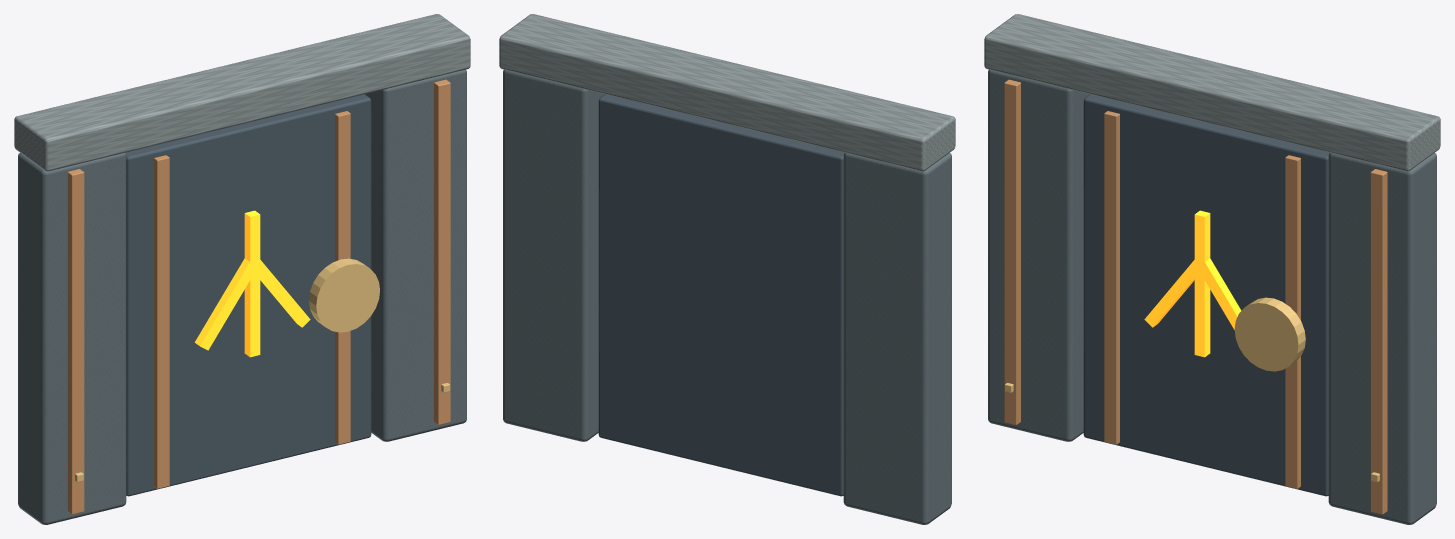
The model's file is dwarven-runeforge-dungeon-dwarven-runeforge-dungeon-va-2bd08ac9__28593.glb.
The picture shows the model from 3 angles, left to right: view 1: azimuth 30°, elevation 25°; view 2: azimuth 150°, elevation 25°; view 3: azimuth 330°, elevation 25°; orthographic projection.
Visible parts, largest first — view 1: dwarven-runeforge-dungeon-vault-doorway, door (×7); view 2: dwarven-runeforge-dungeon-vault-doorway, door; view 3: dwarven-runeforge-dungeon-vault-doorway, door (×7).
Boxes of the visible parts, x1,y1,x2,y2 form: dwarven-runeforge-dungeon-vault-doorway: [14, 14, 470, 524]; door (×7): [125, 94, 379, 496]; dwarven-runeforge-dungeon-vault-doorway: [499, 14, 955, 524]; door: [598, 94, 844, 496]; dwarven-runeforge-dungeon-vault-doorway: [984, 14, 1440, 524]; door (×7): [1083, 94, 1329, 496].
Bounding box in the file's own units: 4 × 3.5 × 0.69.
6 materials, 2 textured.
